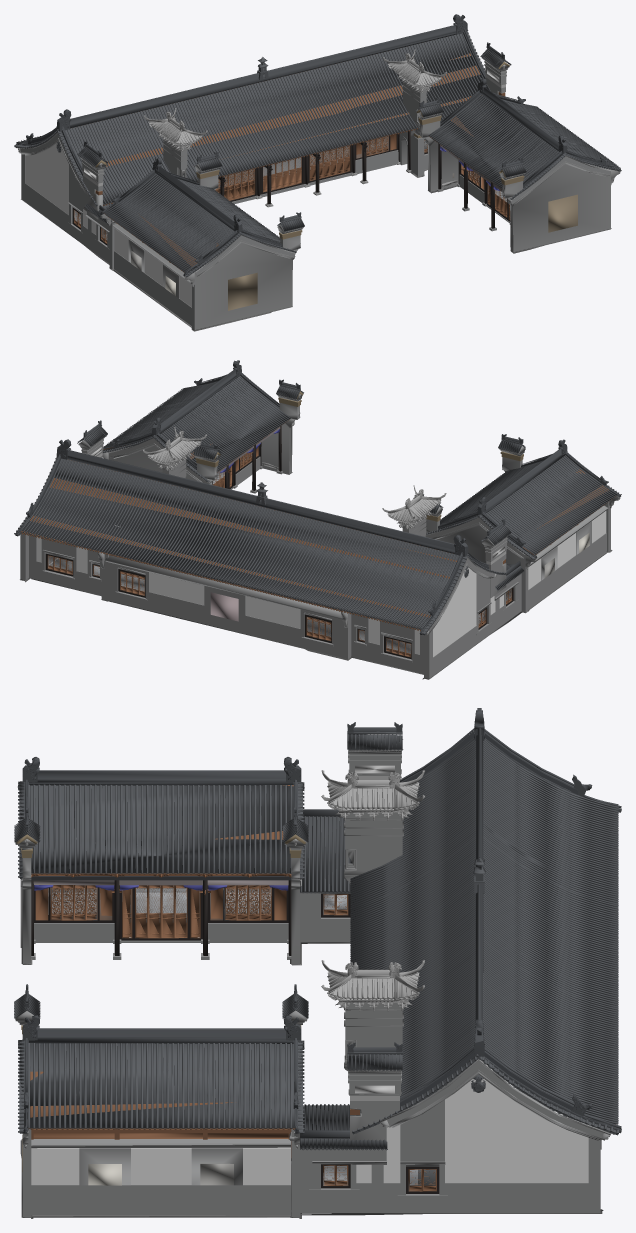
3 renders of one model, top to bottom at view 1: azimuth 30°, elevation 25°; view 2: azimuth 150°, elevation 25°; view 3: azimuth 270°, elevation 25°, orthographic. The views are drawn at different scales.
Parts seen in each view (by area): view 1: Obj3d66-1723632-2687-894; view 2: Obj3d66-1723632-2687-894; view 3: Obj3d66-1723632-2687-894.
Part boxes in pixels (x1,y1,x2,y2): Obj3d66-1723632-2687-894: [14, 14, 621, 331]; Obj3d66-1723632-2687-894: [14, 360, 621, 679]; Obj3d66-1723632-2687-894: [14, 708, 621, 1218].
Size of the model in its own units: 34.49 by 9.1 by 25.51.
